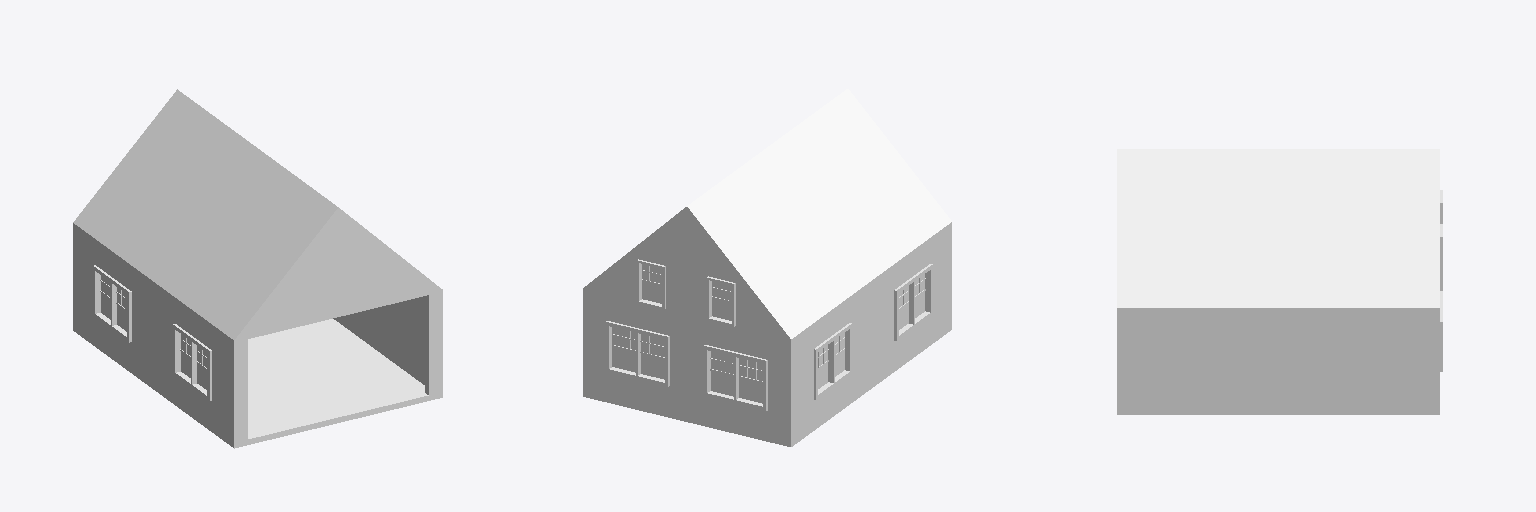
3 renders of one model, left to right at view 1: azimuth 30°, elevation 25°; view 2: azimuth 150°, elevation 25°; view 3: azimuth 270°, elevation 25°, orthographic.
Visible parts, largest first — view 1: object_85, object_82, object_2, object_84, object_81, object_3, object_25, object_27, object_4, object_77, object_78; view 2: object_85, object_1, object_2, object_83, object_82, object_79, object_76, object_75, object_42, object_25, object_27, object_77 (+5 smaller); view 3: object_85, object_81, object_82, object_1.
Part boxes in pixels (bbox=[...]): object_85: bbox=[73, 89, 442, 340]; object_82: bbox=[73, 319, 442, 448]; object_2: bbox=[77, 226, 240, 442]; object_84: bbox=[241, 214, 435, 338]; object_81: bbox=[333, 290, 442, 393]; object_3: bbox=[425, 294, 435, 394]; object_25: bbox=[173, 324, 211, 400]; object_27: bbox=[93, 265, 131, 342]; object_4: bbox=[241, 339, 247, 440]; object_77: bbox=[181, 334, 206, 389]; object_78: bbox=[101, 276, 126, 331]; object_85: bbox=[583, 89, 951, 338]; object_1: bbox=[583, 289, 794, 441]; object_2: bbox=[795, 222, 951, 438]; object_83: bbox=[590, 214, 783, 337]; object_82: bbox=[583, 325, 951, 446]; object_79: bbox=[612, 327, 664, 379]; object_76: bbox=[711, 351, 762, 403]; object_75: bbox=[605, 321, 669, 386]; object_42: bbox=[704, 345, 767, 410]; object_25: bbox=[894, 264, 932, 340]; object_27: bbox=[814, 323, 851, 399]; object_77: bbox=[899, 274, 924, 329]; object_85: bbox=[1117, 149, 1439, 307]; object_81: bbox=[1117, 308, 1431, 409]; object_82: bbox=[1117, 410, 1439, 414]; object_1: bbox=[1432, 308, 1439, 409].
Bounding box in the file's own units: 8.06 × 7.88 × 10.75.